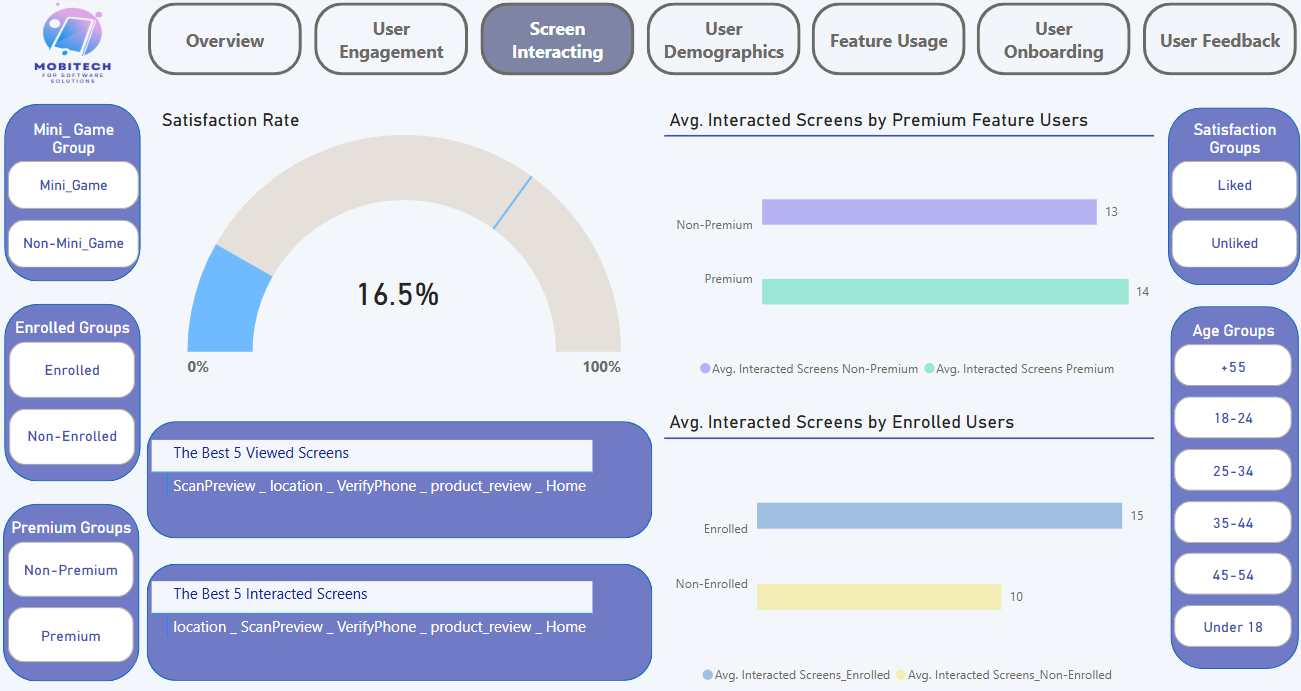

This screenshot's page, from the dashboard's own definition file:
{"tool":"powerbi","page":{"name":"Screen Interacting","canvas":[1280,720],"ordinal":5},"visuals":[{"type":"group","id":"g1","title":"Group 4","box":[4.4,105.9,138.2,173.9],"z":0,"group":"g6"},{"type":"shape","box":[6,105.9,133.4,173.9],"z":0,"group":"g1"},{"type":"group","id":"g2","title":"Group 3","box":[1143.3,109.8,133.3,173.9],"z":0,"group":"g8"},{"type":"shape","box":[1144.1,109.8,129.3,173.9],"z":0,"group":"g2"},{"type":"group","id":"g3","title":"Group 2","box":[6.1,302.5,133.4,173.9],"z":0,"group":"g5"},{"type":"shape","box":[6.1,302.5,133.4,173.9],"z":0,"group":"g3"},{"type":"shape","box":[1147.7,304.5,125.5,354.8],"z":0,"group":"g7"},{"type":"clusteredBarChart","title":"Avg. Interacted Screens by Enrolled Users","fields":{"Y":["Total.AvgScreensEnrolled","Total.AvgScreensNonEnrolled"],"Category":["appdata10.enrolled 2"]},"box":[709.2,407.2,421.9,276.4],"z":0},{"type":"shape","box":[5.1,497.6,133.4,173.9],"z":0,"group":"g4"},{"type":"advancedSlicerVisual","fields":{"Values":["appdata10.Satisfaction Groups"]},"box":[1143.3,121.9,133.3,149.9],"z":1000,"group":"g2"},{"type":"advancedSlicerVisual","title":"  Mini_ Game Group","fields":{"Values":["appdata10.Mini_Game Group"]},"box":[4.4,122.2,138.2,150.4],"z":1000,"group":"g1"},{"type":"advancedSlicerVisual","fields":{"Values":["appdata10.Enrolled Groups"]},"box":[6.1,316.9,133.4,147.8],"z":1000,"group":"g3"},{"type":"advancedSlicerVisual","fields":{"Values":["appdata10.Age Groups"]},"box":[1146,319.6,125.3,326.8],"z":1000,"group":"g7"},{"type":"shape","box":[145.5,417,547.8,114.9],"z":1000},{"type":"advancedSlicerVisual","fields":{"Values":["appdata10.Premium Groups"]},"box":[5.1,512.1,133.4,147.4],"z":1000,"group":"g4"},{"type":"shape","box":[145.5,556.4,547.8,113.7],"z":2000},{"type":"pivotTable","fields":{"Values":["Total.The Best Viewed Screen"]},"box":[145.5,430.4,536.8,102.7],"z":3000},{"type":"clusteredBarChart","title":"Avg. Interacted Screens by Premium Feature Users","fields":{"Y":["Total.AvgScreensNonPremium","Total.AvgScreensPremium"],"Category":["appdata10.premium user"]},"box":[693.3,111.3,437.8,272.7],"z":4000},{"type":"group","id":"g4","title":"Group 1","box":[5.1,497.6,132.9,173.5],"z":5000},{"type":"group","id":"g5","title":"Group 1","box":[6.1,302.5,132.9,173.5],"z":6000},{"type":"group","id":"g6","title":"Group 2","box":[4.4,105.9,138.2,173.9],"z":7000},{"type":"group","id":"g7","title":"Group 1","box":[1146,304.5,128.7,355.4],"z":8000},{"type":"group","id":"g8","title":"Group 2","box":[1143.3,109.8,133.3,173.9],"z":9000},{"type":"actionButton","box":[634.1,7.9,150.6,71.3],"z":10000},{"type":"actionButton","box":[309.1,7.9,150.6,71.3],"z":11000},{"type":"actionButton","box":[471.6,7.9,150.6,71.3],"z":12000},{"type":"pivotTable","fields":{"Values":["Total.The Best Interacted Screen"]},"box":[146.7,562.5,546.6,101.5],"z":13000},{"type":"actionButton","box":[146.6,7.9,150.6,71.3],"z":14000},{"type":"actionButton","box":[796.5,7.9,150.6,71.3],"z":15000},{"type":"actionButton","box":[957.7,7.9,150.6,71.3],"z":16000},{"type":"actionButton","box":[1120.2,7.9,150.6,71.3],"z":17000},{"type":"image","box":[22,0,101.5,96.6],"z":18000},{"type":"clusteredColumnChart","title":"Users by Usage-Group","fields":{"Category":["appdata10.Usage-Group"],"Y":["Count(appdata10.User ID)"]},"box":[146.7,111.3,517.3,280],"z":19000}]}

Visuals, with their boxes on the page's 1280x720 design canvas (x1, y1, x2, y2). These are canvas units, not pixel positions in the 1301x691 screenshot, which may show the page scaled, cropped or inside an application window:
"Group 4" group: detection(4, 106, 143, 280)
shape: detection(6, 106, 139, 280)
"Group 3" group: detection(1143, 110, 1277, 284)
shape: detection(1144, 110, 1273, 284)
"Group 2" group: detection(6, 302, 140, 476)
shape: detection(6, 302, 140, 476)
shape: detection(1148, 304, 1273, 659)
"Avg. Interacted Screens by Enrolled Users" clusteredBarChart: detection(709, 407, 1131, 684)
shape: detection(5, 498, 138, 672)
advancedSlicerVisual - appdata10.Satisfaction Groups: detection(1143, 122, 1277, 272)
"  Mini_ Game Group" advancedSlicerVisual: detection(4, 122, 143, 273)
advancedSlicerVisual - appdata10.Enrolled Groups: detection(6, 317, 140, 465)
advancedSlicerVisual - appdata10.Age Groups: detection(1146, 320, 1271, 646)
shape: detection(146, 417, 693, 532)
advancedSlicerVisual - appdata10.Premium Groups: detection(5, 512, 138, 660)
shape: detection(146, 556, 693, 670)
pivotTable - Total.The Best Viewed Screen: detection(146, 430, 682, 533)
"Avg. Interacted Screens by Premium Feature Users" clusteredBarChart: detection(693, 111, 1131, 384)
"Group 1" group: detection(5, 498, 138, 671)
"Group 1" group: detection(6, 302, 139, 476)
"Group 2" group: detection(4, 106, 143, 280)
"Group 1" group: detection(1146, 304, 1275, 660)
"Group 2" group: detection(1143, 110, 1277, 284)
actionButton: detection(634, 8, 785, 79)
actionButton: detection(309, 8, 460, 79)
actionButton: detection(472, 8, 622, 79)
pivotTable - Total.The Best Interacted Screen: detection(147, 562, 693, 664)
actionButton: detection(147, 8, 297, 79)
actionButton: detection(796, 8, 947, 79)
actionButton: detection(958, 8, 1108, 79)
actionButton: detection(1120, 8, 1271, 79)
image: detection(22, 0, 124, 97)
"Users by Usage-Group" clusteredColumnChart: detection(147, 111, 664, 391)
